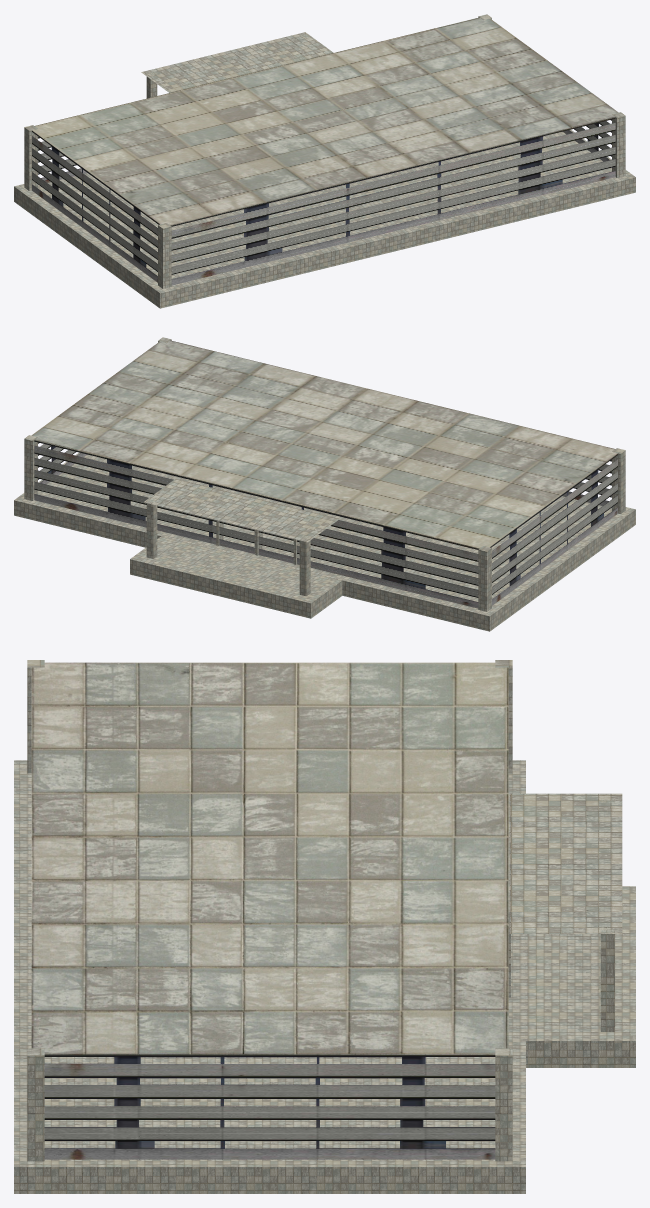
The model's file is BagSS05base_0.fbx.
3 views of the same model, one above another, from view 1: azimuth 30°, elevation 25°; view 2: azimuth 150°, elevation 25°; view 3: azimuth 270°, elevation 25° (orthographic). The views are drawn at different scales.
Visible parts, largest first — view 1: baseRoof0, baseFloor0, baseBox0; view 2: baseRoof0, baseFloor0, baseBox0; view 3: baseRoof0, baseFloor0, baseBox0.
Boxes of the visible parts, x1=… form: baseRoof0: x1=32, y1=17, x2=618, y2=225; baseFloor0: x1=14, y1=14, x2=635, y2=308; baseBox0: x1=32, y1=117, x2=615, y2=285; baseRoof0: x1=31, y1=340, x2=617, y2=548; baseFloor0: x1=14, y1=337, x2=635, y2=631; baseBox0: x1=34, y1=440, x2=617, y2=608; baseRoof0: x1=31, y1=662, x2=508, y2=1054; baseFloor0: x1=14, y1=660, x2=635, y2=1193; baseBox0: x1=44, y1=1054, x2=495, y2=1159.
Bounding box in the file's own units: 43.75 × 6.65 × 28.28.
